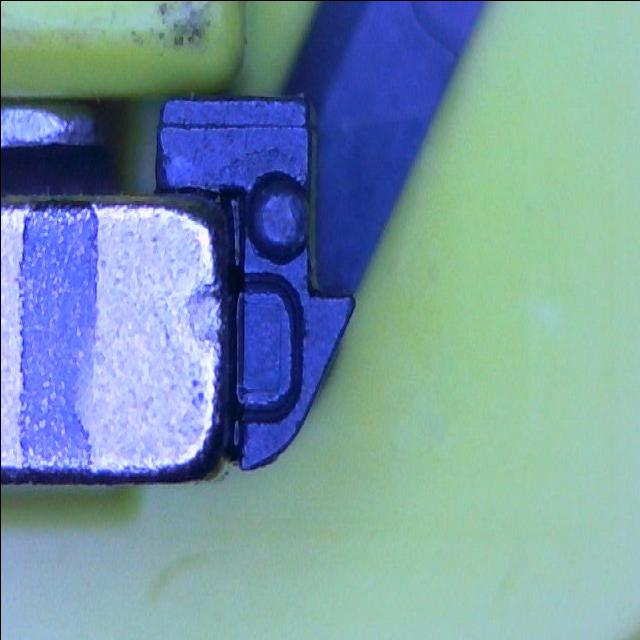lacking: (230, 271, 302, 422)
